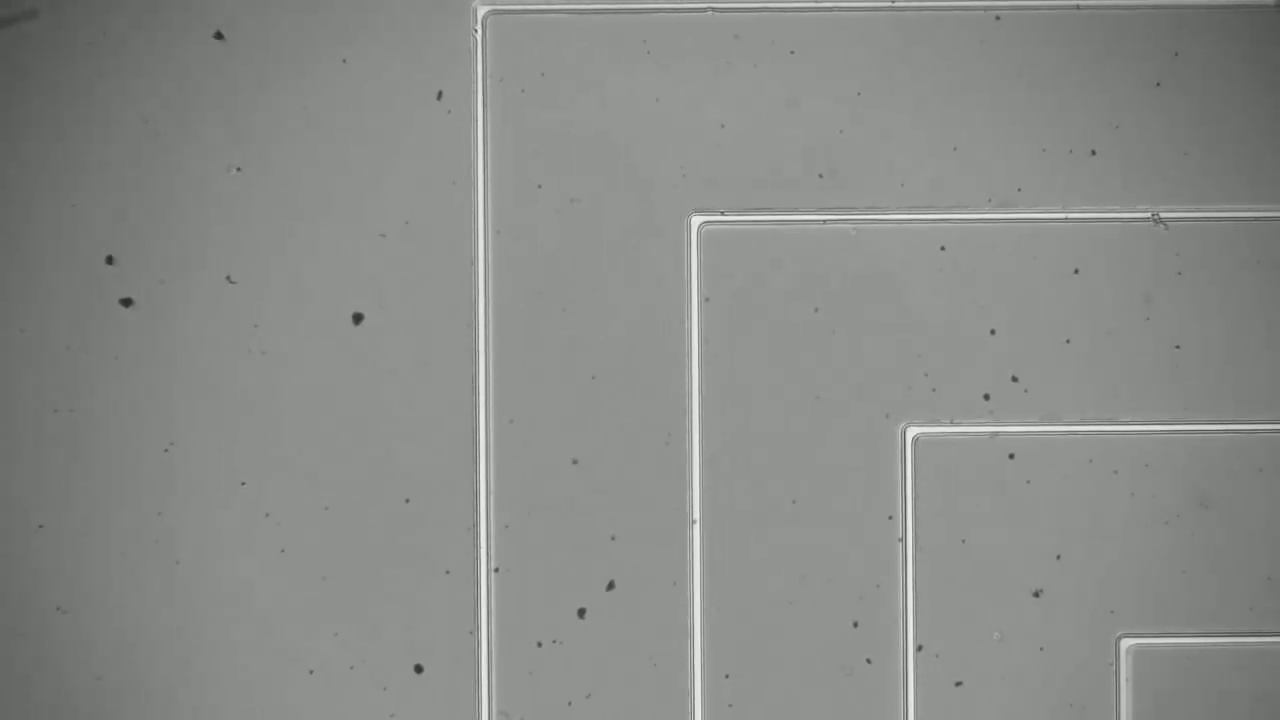stains_enbedded: (1138, 199, 1182, 238)
